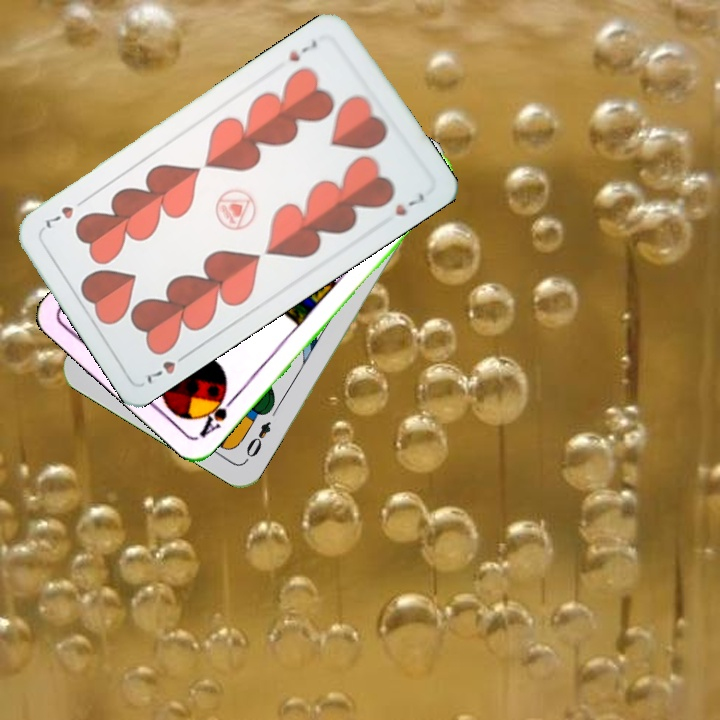EO: (241, 417, 274, 460)
H7: (142, 348, 193, 387), (285, 36, 321, 65)
SA: (194, 385, 240, 441)
